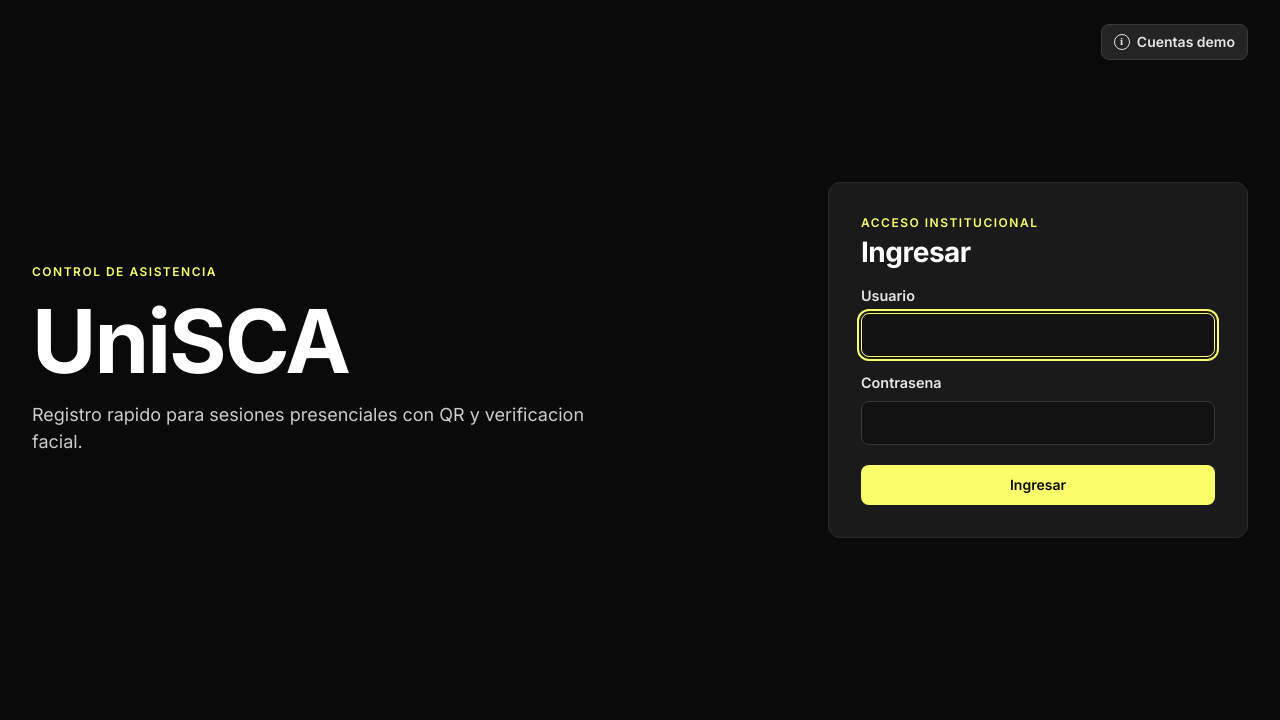
Test: autofills a demo account without authenticating
This screenshot has width=1280, height=720.
Click the button with aria-label "Información de cuentas de demostración". click: (1174, 42)
box: [1101, 24, 1248, 60]
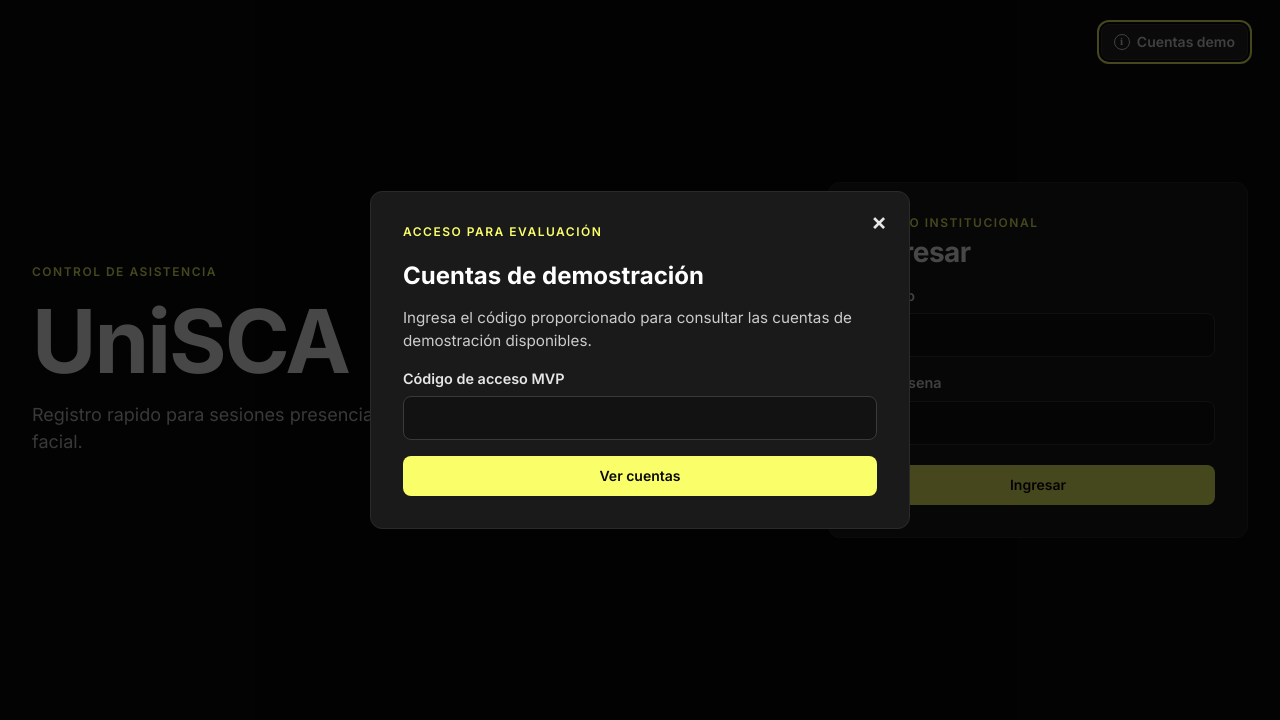
Type "unisca159" into the password field labelled "Código de acceso MVP". click: (640, 418)
box: [403, 396, 877, 440]
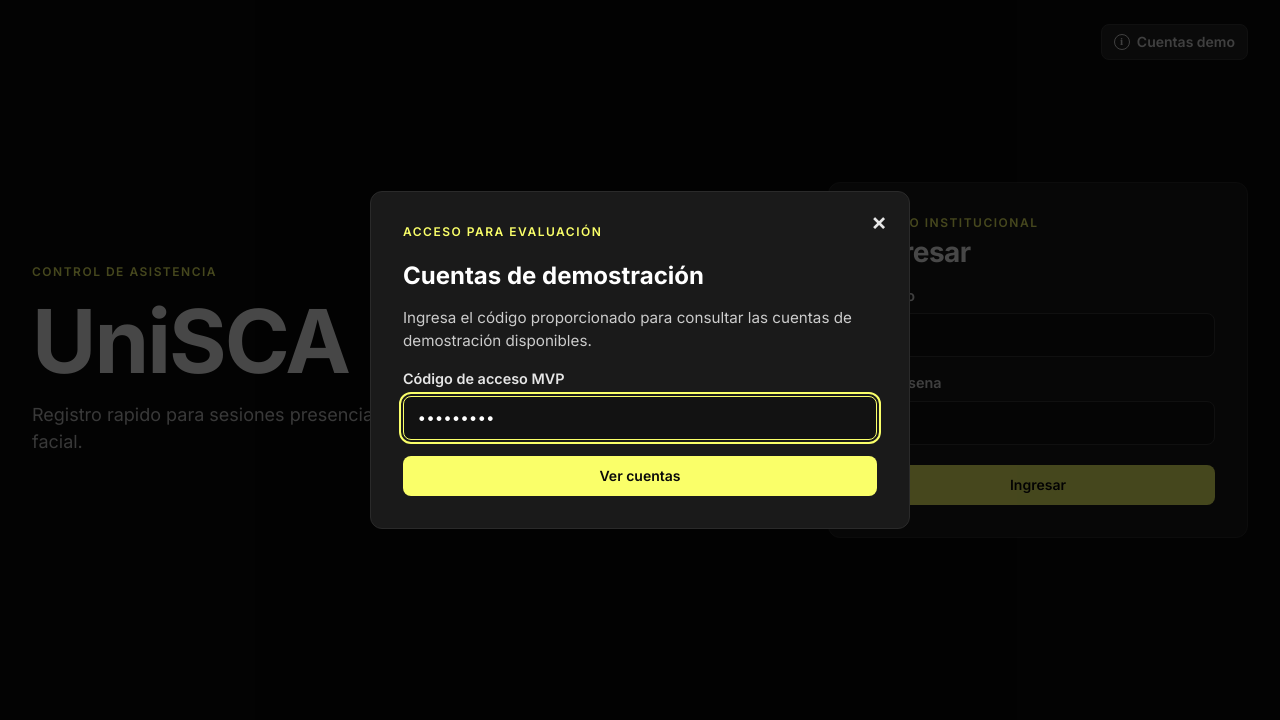
Click the button "Ver cuentas". click: (640, 476)
box: [403, 456, 877, 496]
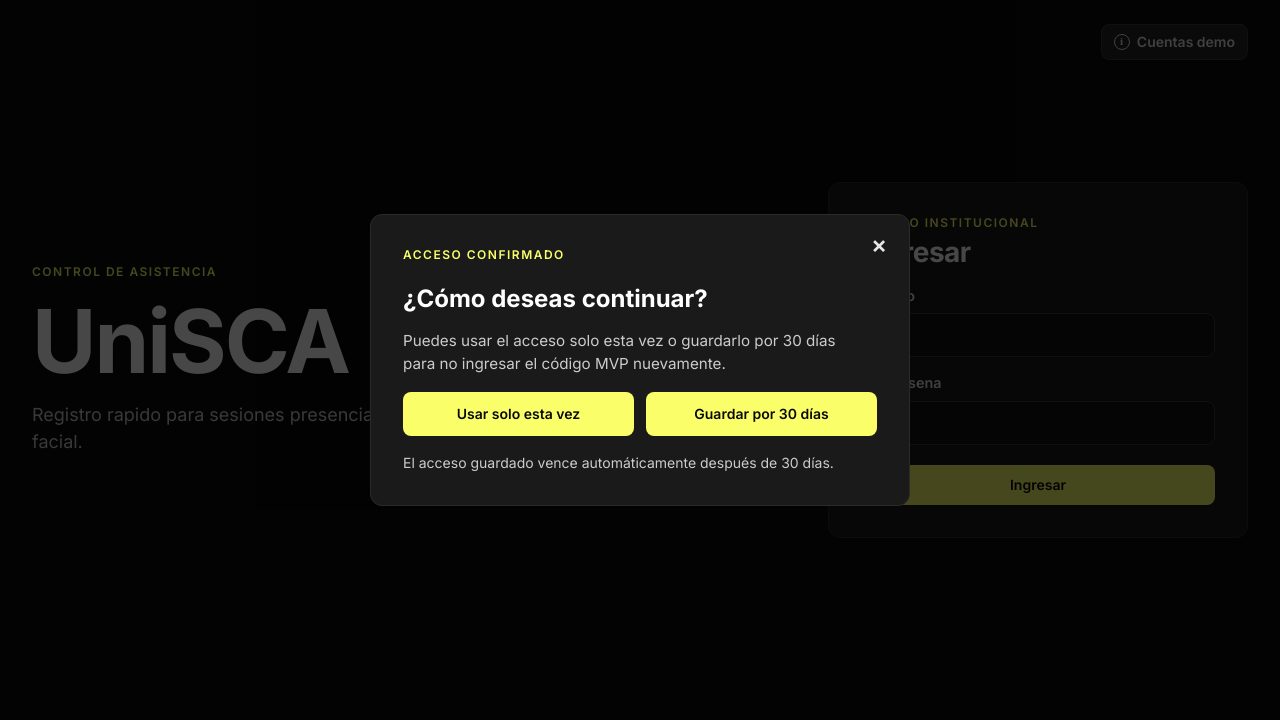
Click the button "Usar solo esta vez". click: (518, 414)
box: [403, 392, 634, 436]
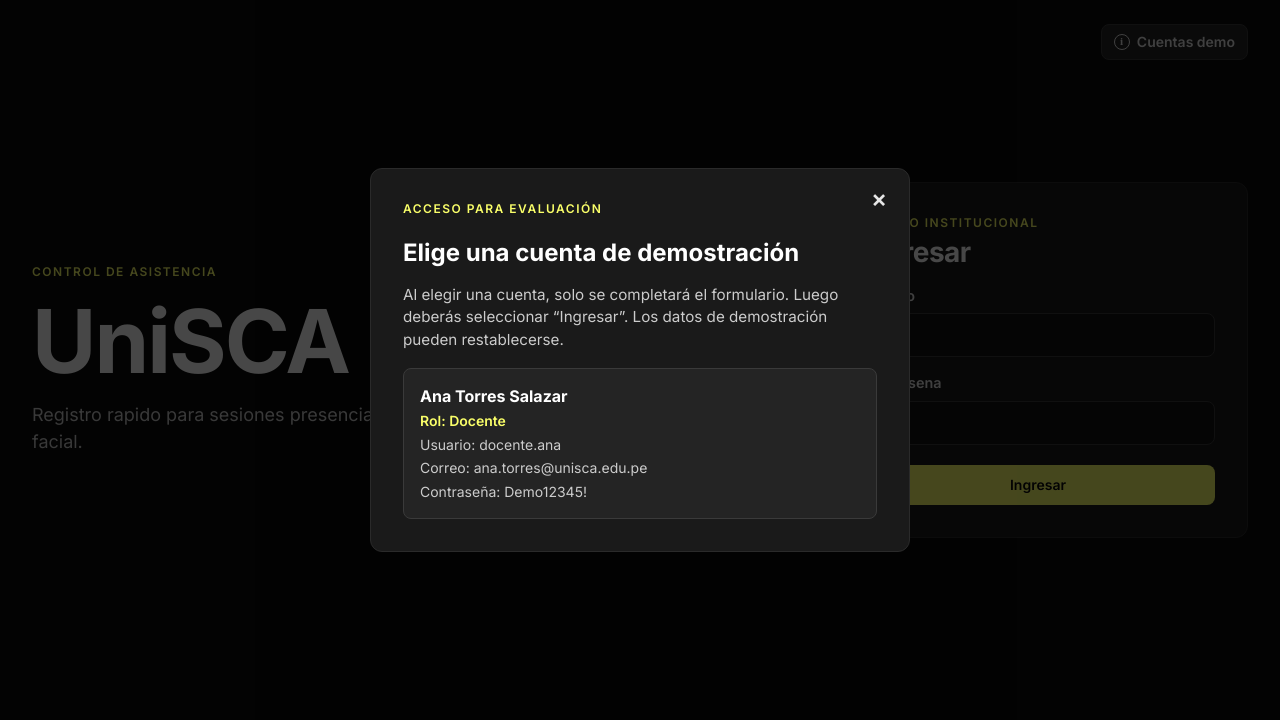
Click the button "Ana Torres Salazar". click: (494, 396)
box: [403, 368, 877, 519]
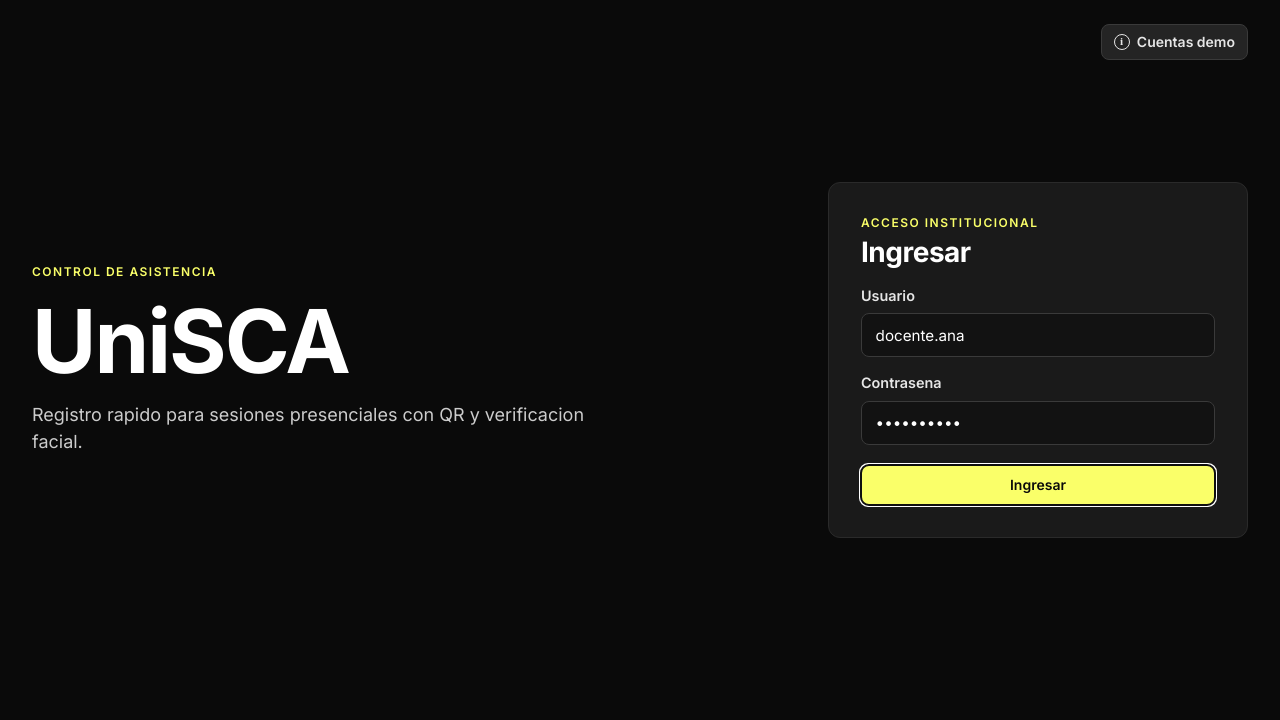
Check: the heading "Cuentas de demostración" is not shown
Check: the field labelled "Usuario" holds "docente.ana", box [861, 313, 1215, 357]
Check: the password field labelled "Contrasena" holds "Demo12345!", box [861, 400, 1215, 444]
